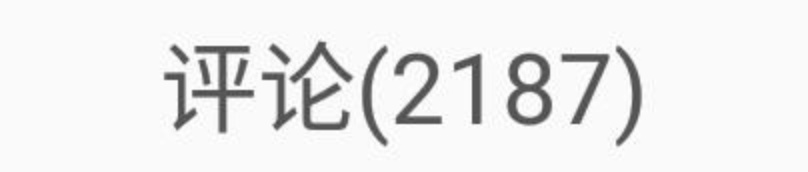TextView: (1, 1, 807, 171)
